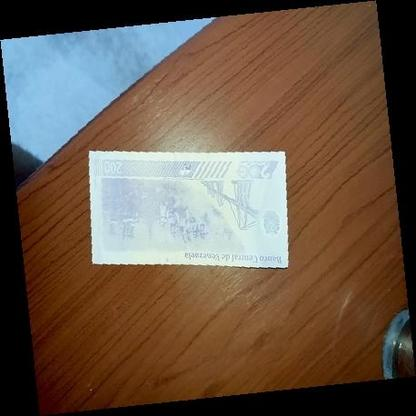two_hundred-back-vef: (88, 150, 289, 268)
